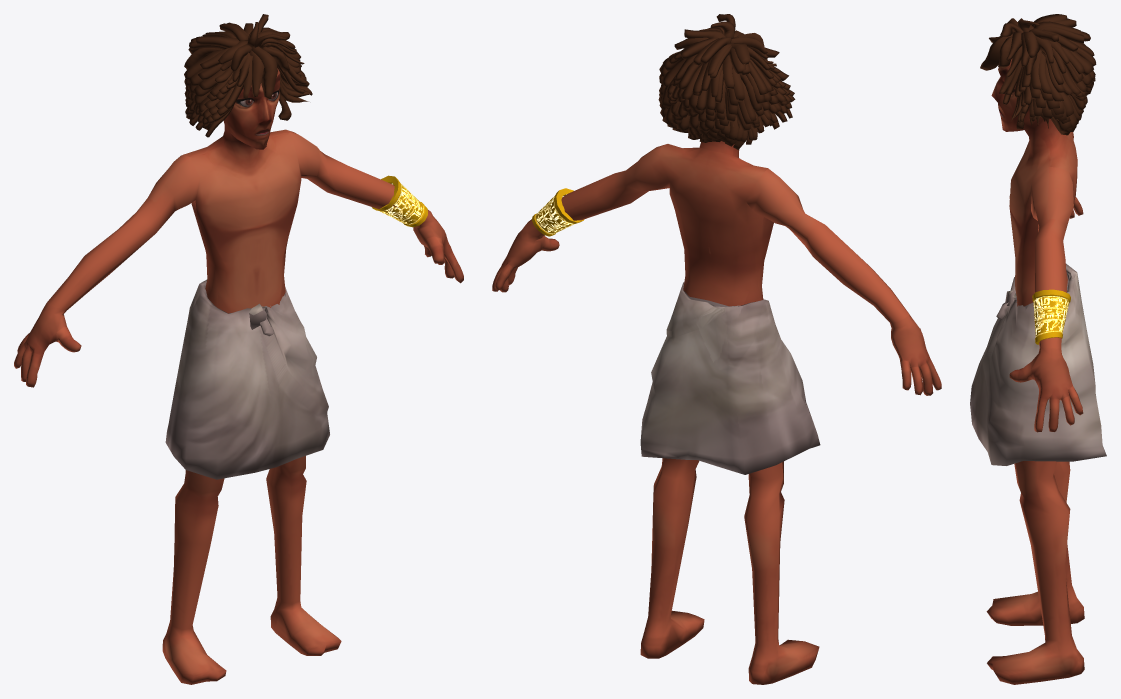
File: Character Mesh.fbx
The picture shows the model from 3 angles, left to right: view 1: azimuth 30°, elevation 25°; view 2: azimuth 150°, elevation 25°; view 3: azimuth 270°, elevation 25°; orthographic projection.
Parts seen in each view (by area): view 1: Body, Skirt, Hair, Bracelet; view 2: Body, Skirt, Hair, Bracelet; view 3: Body, Skirt, Hair, Bracelet.
Part boxes in pixels (box(x1,y1,x2,y2)): Body: box(14, 68, 463, 684); Skirt: box(165, 279, 329, 479); Hair: box(184, 14, 312, 137); Bracelet: box(372, 175, 427, 227); Body: box(492, 141, 941, 684); Skirt: box(640, 282, 820, 474); Hair: box(658, 14, 795, 149); Bracelet: box(532, 188, 584, 236); Body: box(986, 58, 1084, 684); Skirt: box(970, 263, 1106, 465); Hair: box(980, 14, 1096, 135); Bracelet: box(1032, 289, 1070, 344).
Bounding box in the file's own units: 1.35 × 1.87 × 0.3684.
